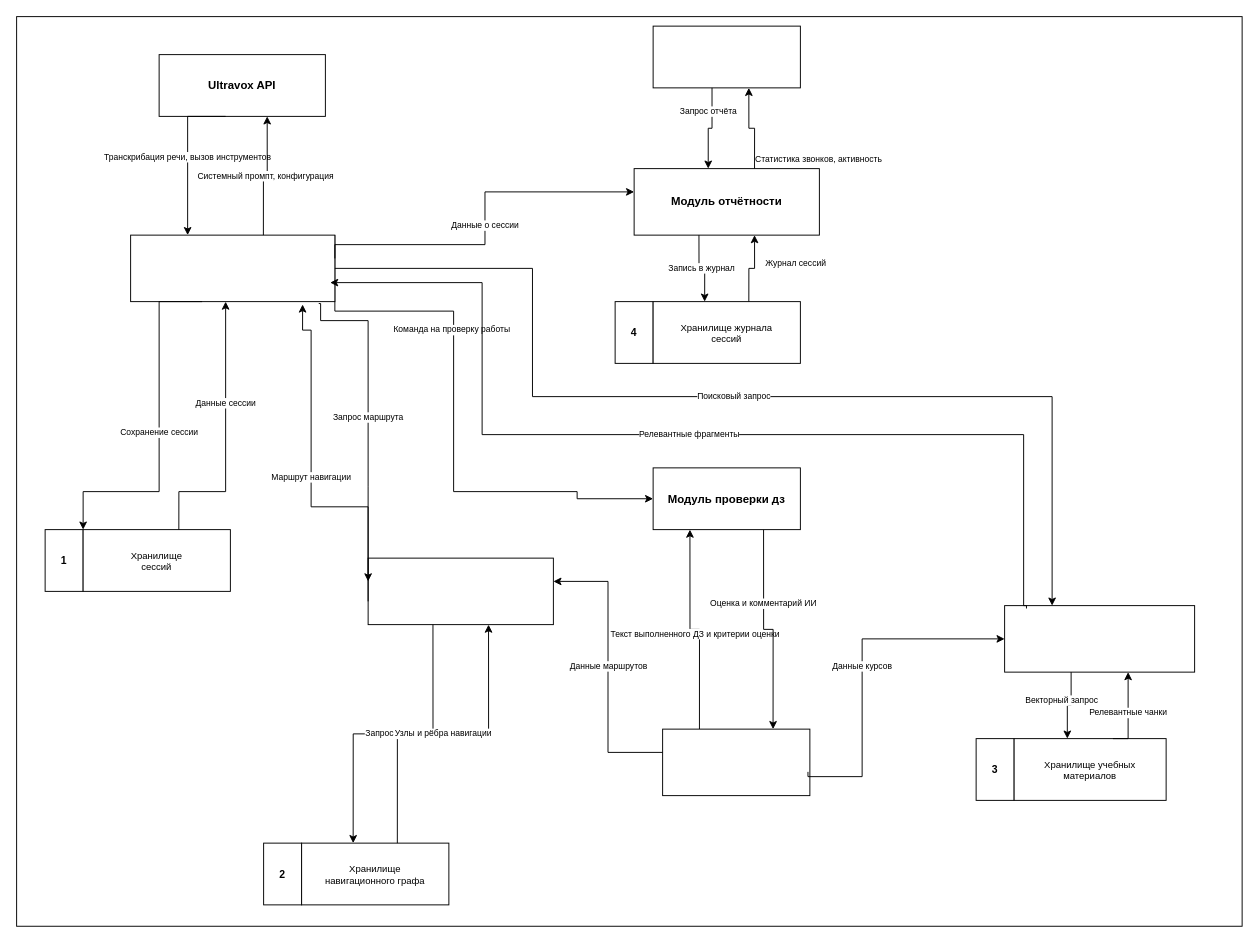
Image size: 1259x943. Some labels were removed from this diagram. Here are the shapes that lost their labels. From the top down, the centre of each, then its label:
At [726,56]: "Администратор".
At [232,268]: "Модуль управления голосовыми сессиями".
At [460,591]: "Модуль навигации".
At [1099,638]: "Модуль семантического поиска (RAG)".
At [736,762]: "Серверная часть (образовательная платформа)".
